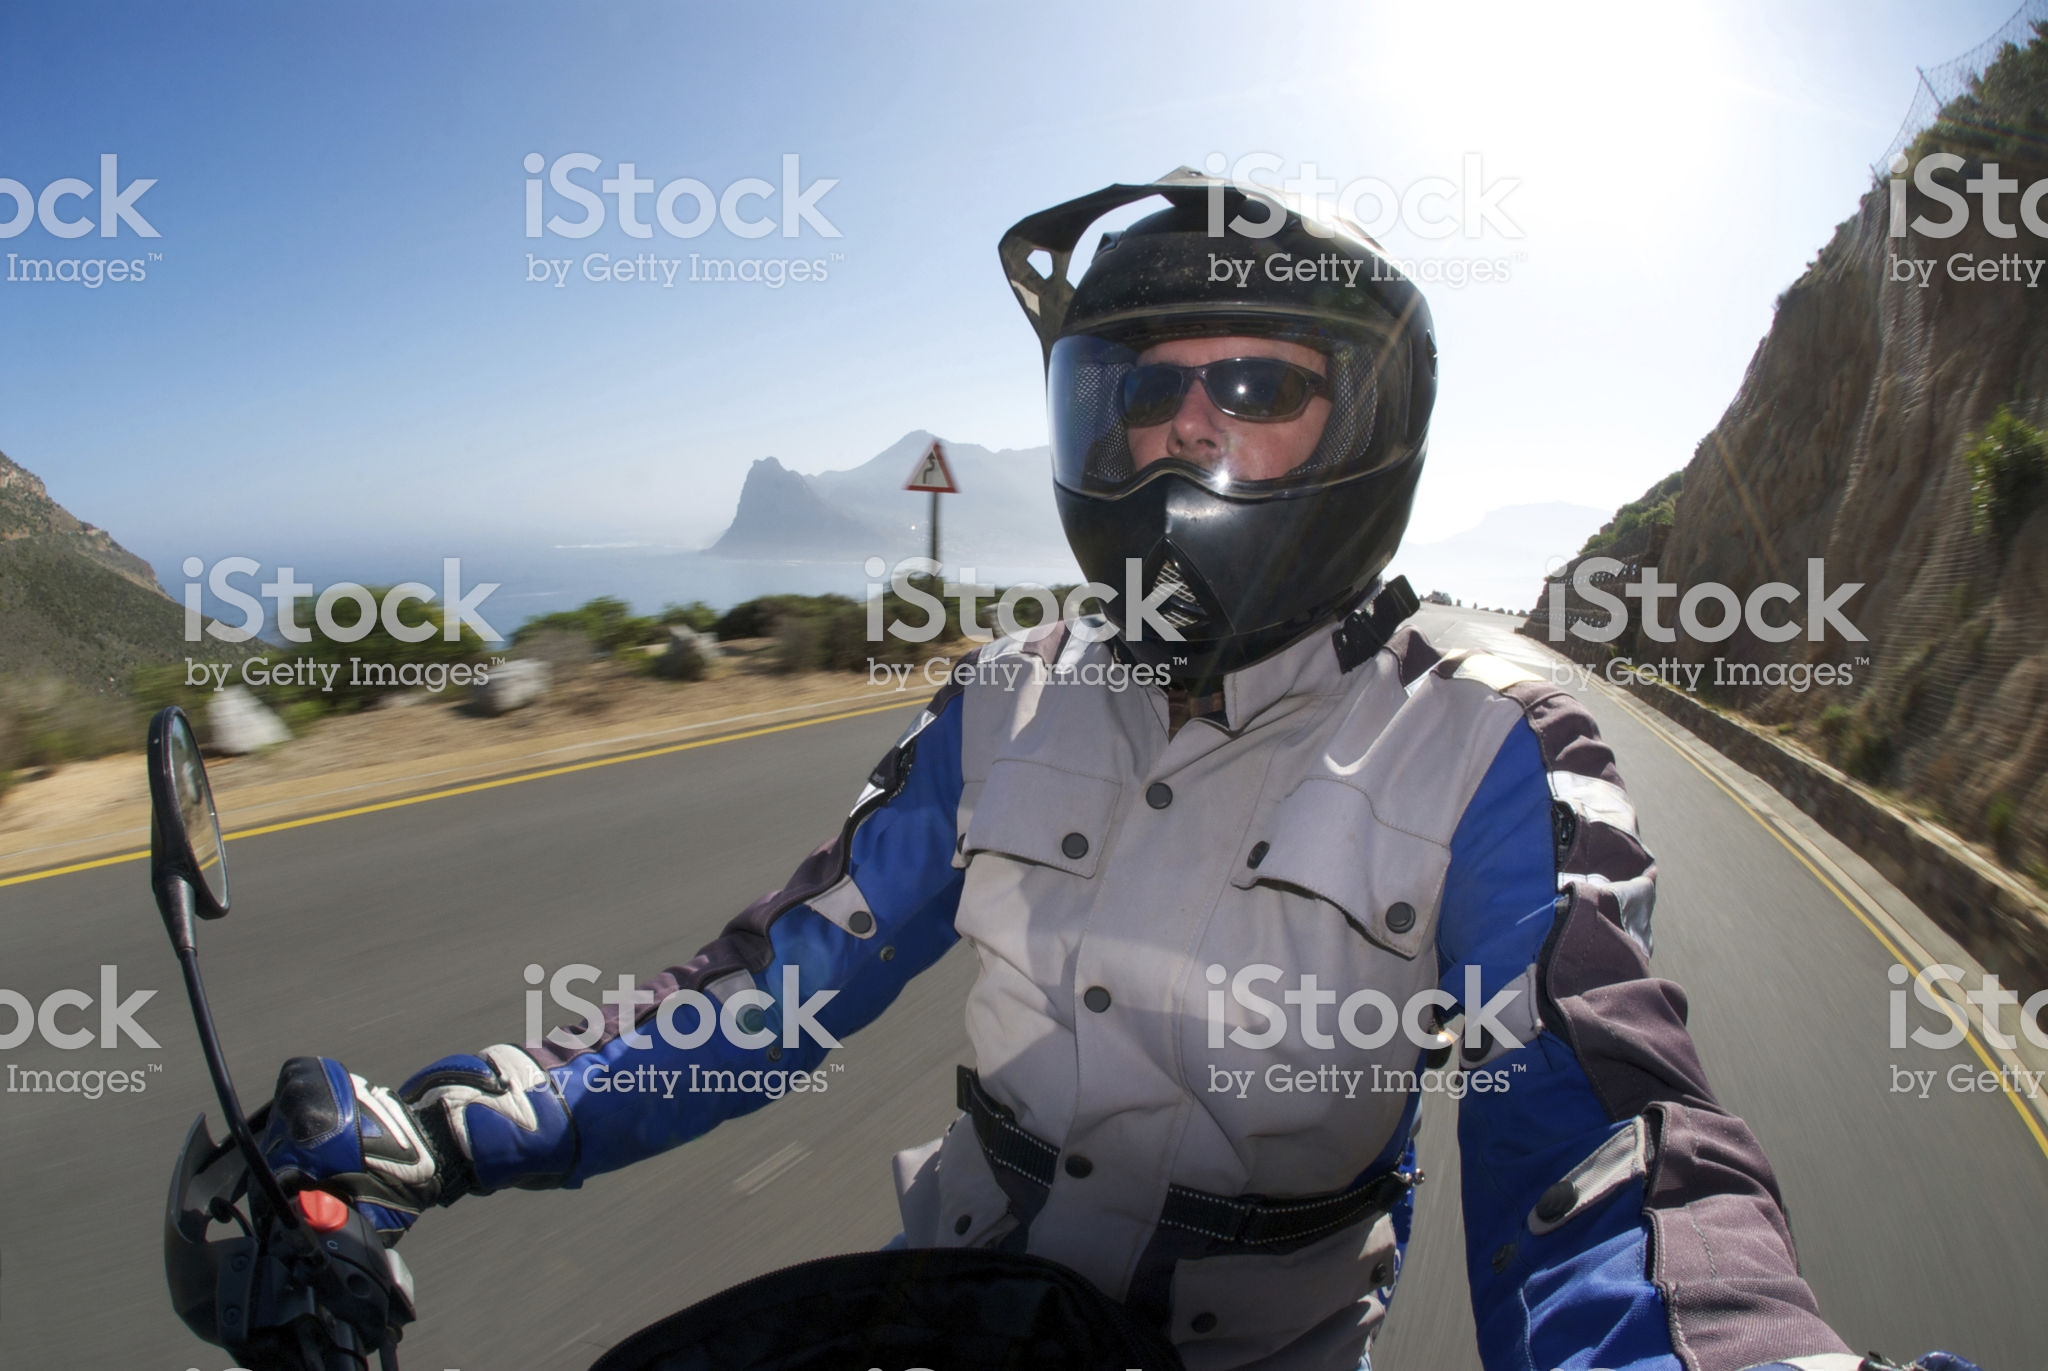helmet: (1011, 181, 1430, 675)
